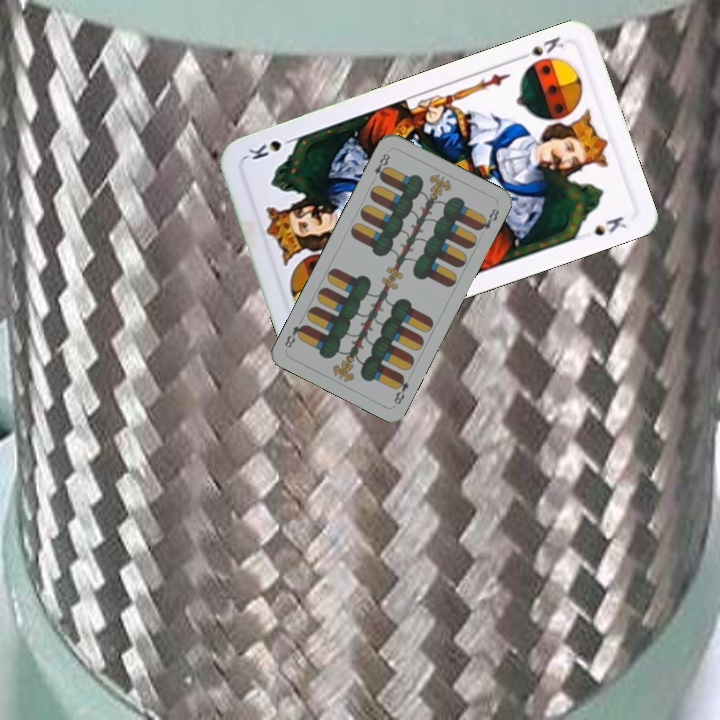E8: (370, 147, 393, 183), (390, 370, 411, 407)
SK: (514, 32, 568, 64)
